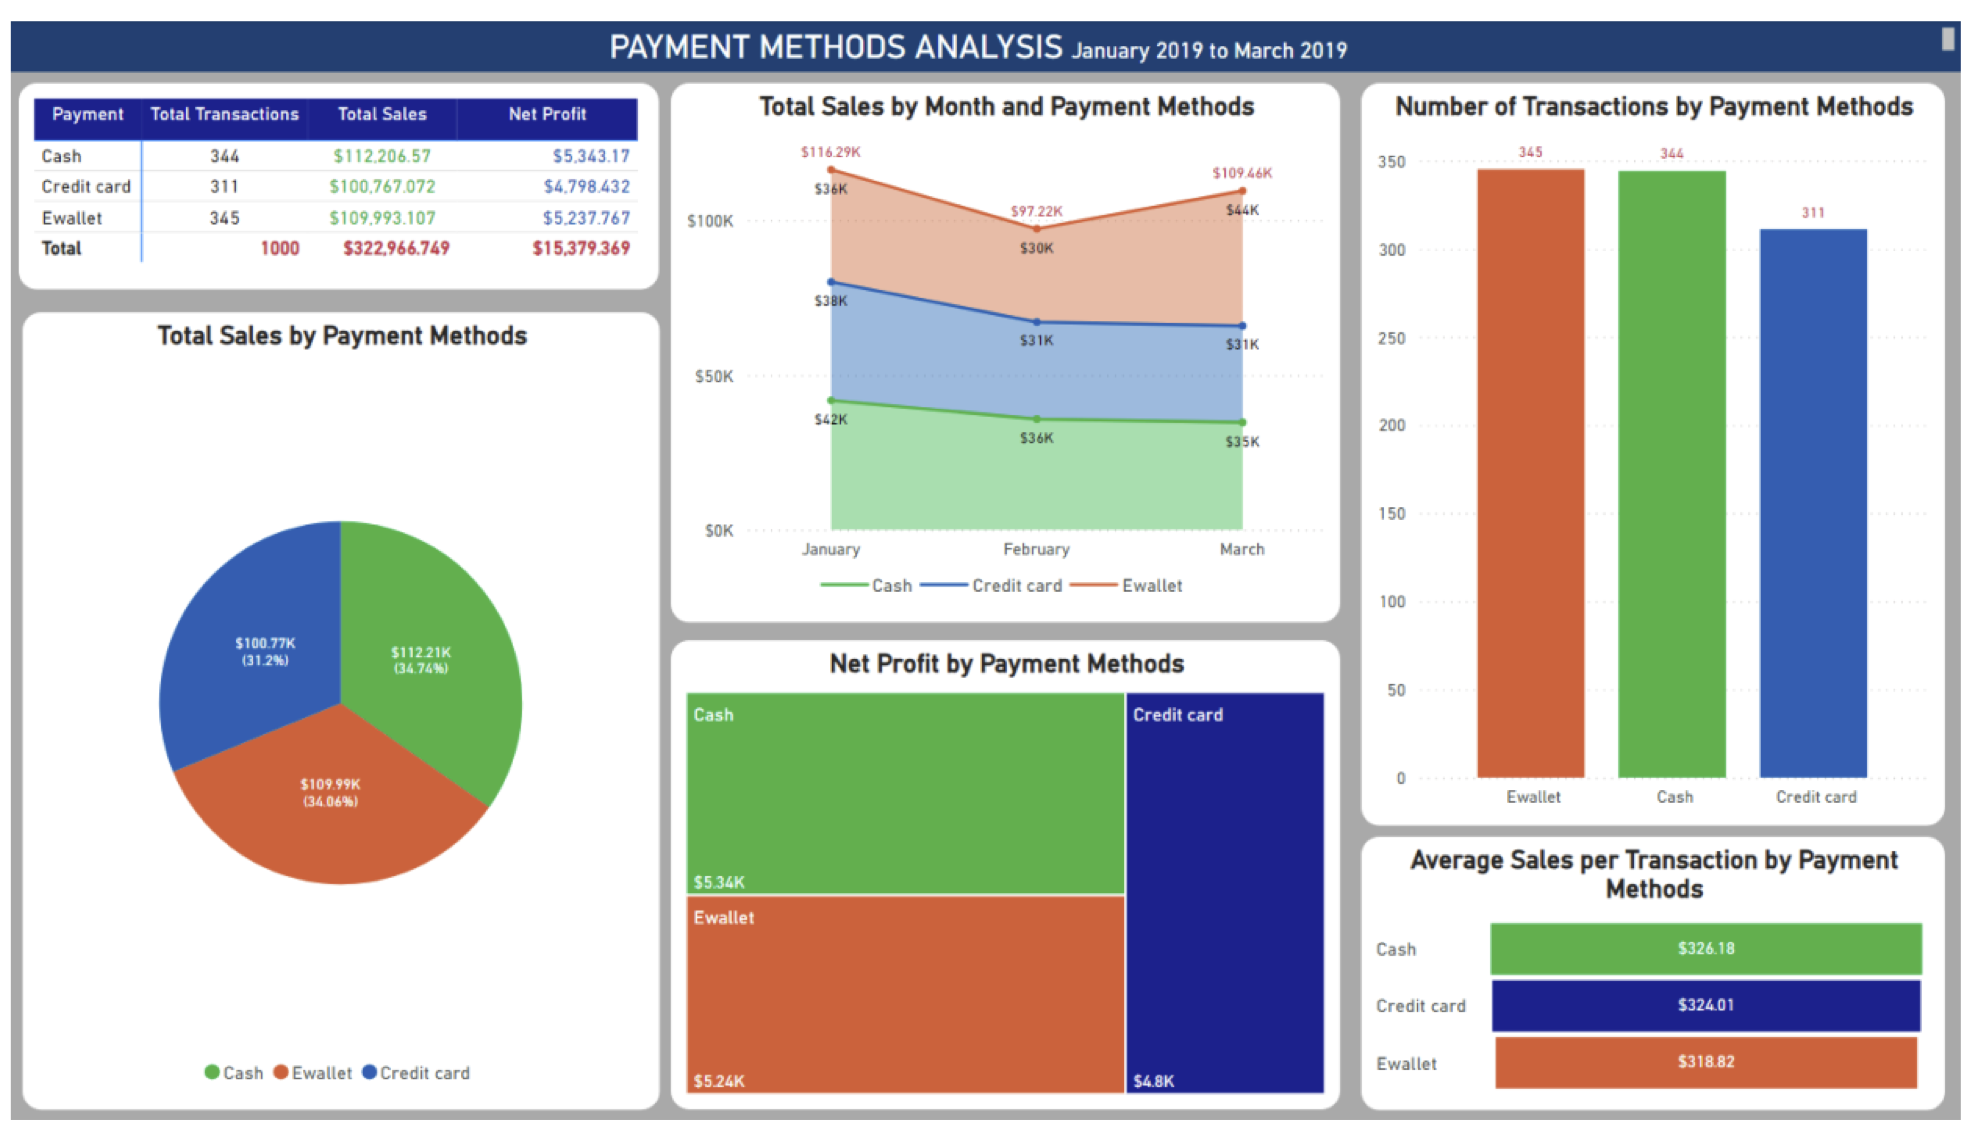

Layout of this report page (visuals, bound fields, positions):
{"tool":"powerbi","page":{"name":"Payment Methods Analysis","canvas":[1280,720],"ordinal":5},"visuals":[{"type":"textbox","box":[0,0,1280,34.3],"z":0},{"type":"pivotTable","fields":{"Rows":["PaymentMethod.Payment"],"Values":["Sales.Number of Transactions","Sales.Total Sales","Sales.Net Profit"]},"box":[7.8,41.4,419.2,135.4],"z":1000},{"type":"pieChart","title":"Total Sales by Payment Methods","fields":{"Category":["PaymentMethod.Payment"],"Y":["Sales.Total Sales"]},"box":[10.4,191.5,416.6,521.8],"z":2000},{"type":"columnChart","title":"Number of Transactions by Payment Methods","fields":{"Category":["PaymentMethod.Payment"],"Y":["Sales.Number of Transactions"]},"box":[886.7,41.4,382.1,485.6],"z":3000},{"type":"funnel","title":"Average Sales per Transaction by Payment Methods","fields":{"Category":["PaymentMethod.Payment"],"Y":["Sales.Average Sales per Transaction"]},"box":[886.7,534.8,382.1,178.5],"z":4000},{"type":"stackedAreaChart","title":"Total Sales by Month and Payment Methods","fields":{"Category":["Sales.Date.Variation.Date Hierarchy.Month"],"Y":["Sales.Total Sales"],"Series":["PaymentMethod.Payment"]},"box":[434.7,41.4,438.2,352.8],"z":5000},{"type":"treemap","title":"Net Profit by Payment Methods","fields":{"Group":["PaymentMethod.Payment"],"Values":["Sales.Net Profit"]},"box":[434.7,406.3,438.2,307.1],"z":6000}]}

Visuals, with their boxes in screenshot pixels (x1, y1, x2, y2), scaled from the page's 1280x720 canvas onto the 1975x1130 screenshot:
textbox: Rect(0, 0, 1974, 54)
pivotTable - PaymentMethod.Payment x Sales.Number of Transactions: Rect(12, 65, 659, 277)
"Total Sales by Payment Methods" pieChart: Rect(16, 301, 659, 1119)
"Number of Transactions by Payment Methods" columnChart: Rect(1368, 65, 1958, 827)
"Average Sales per Transaction by Payment Methods" funnel: Rect(1368, 839, 1958, 1119)
"Total Sales by Month and Payment Methods" stackedAreaChart: Rect(671, 65, 1347, 619)
"Net Profit by Payment Methods" treemap: Rect(671, 638, 1347, 1120)
